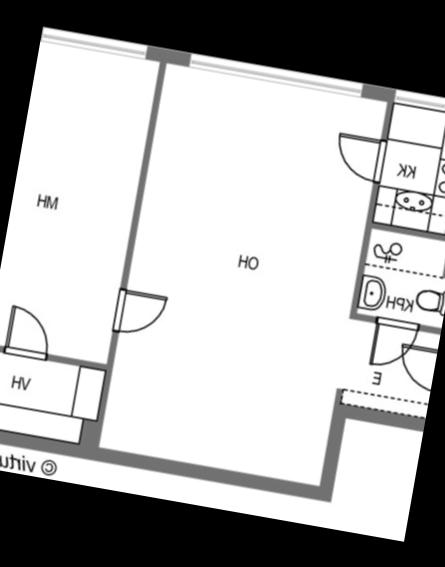door: (107, 284, 172, 339), (327, 128, 388, 184), (0, 300, 54, 361), (366, 313, 420, 374), (392, 338, 438, 392)
window: (179, 50, 370, 100), (39, 26, 153, 63), (385, 87, 445, 116)
